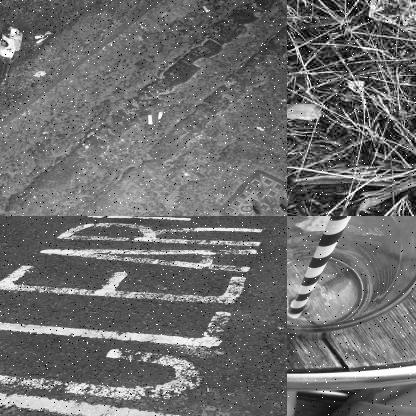glass: (287, 216, 415, 335), (0, 24, 33, 88)
plastic: (287, 216, 415, 323), (369, 0, 415, 30)
